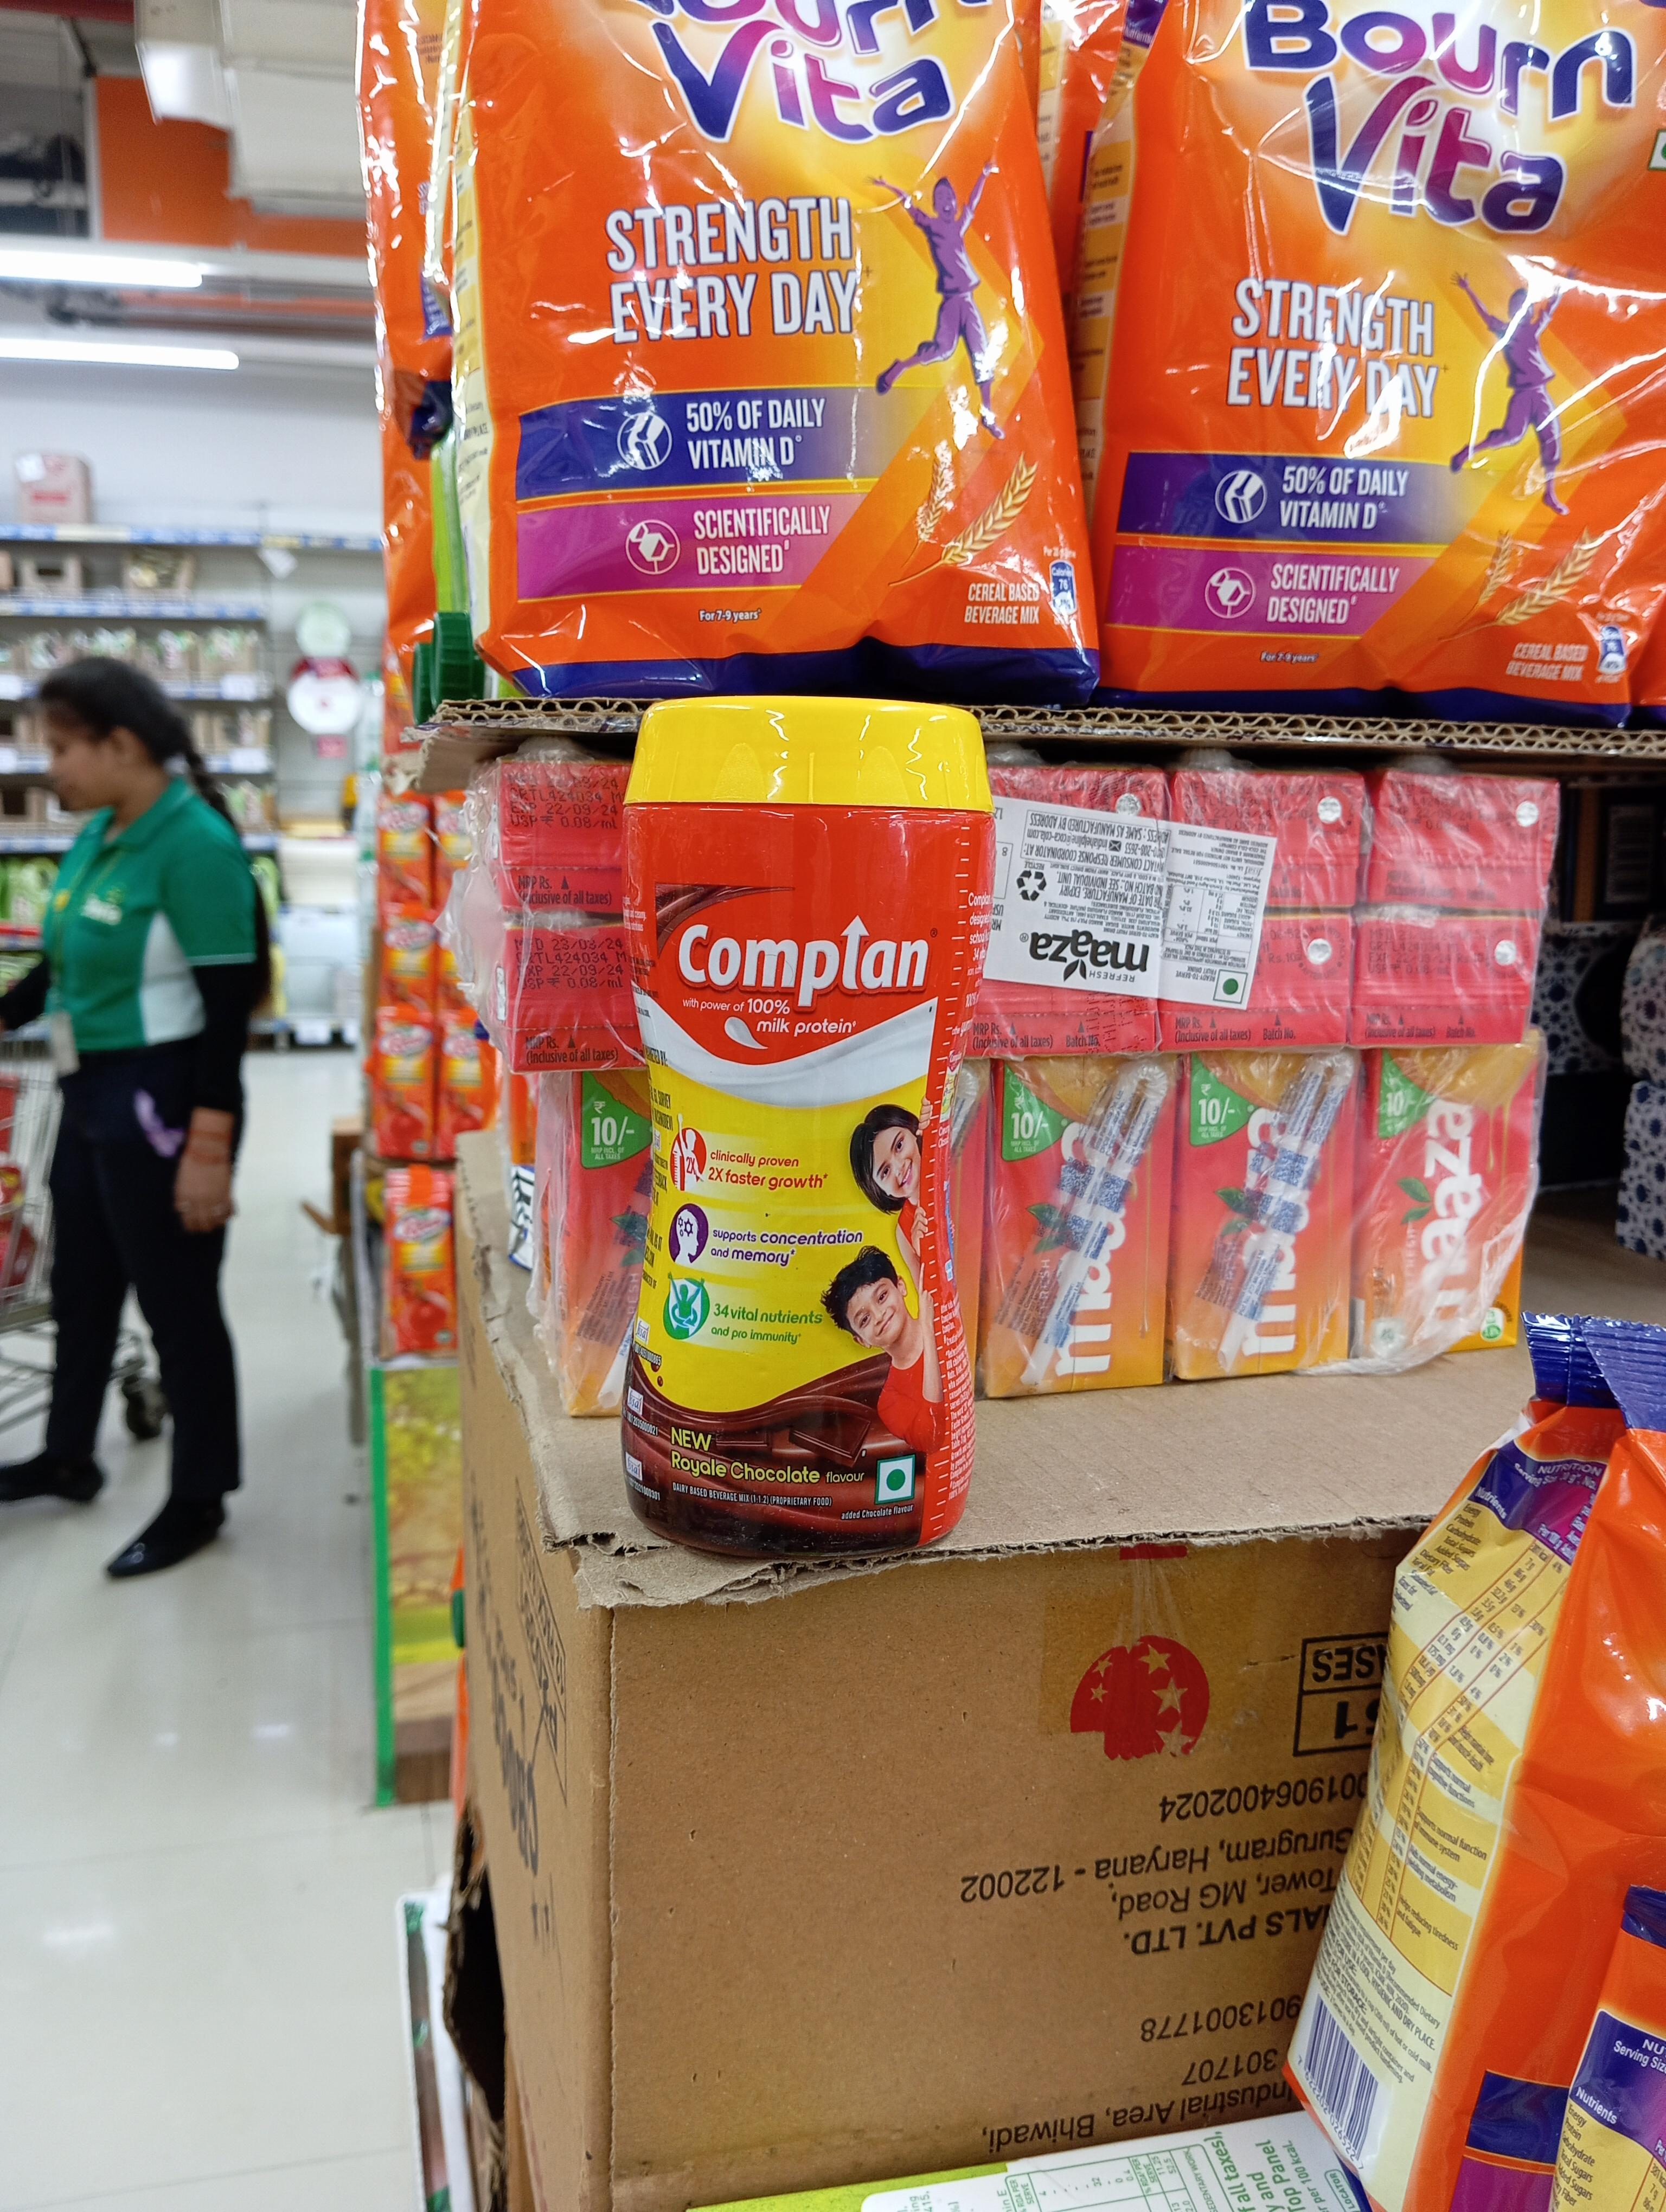COMPLAN_CHOCOLATE_200_GMS_JAR: (633, 673, 975, 1553)
